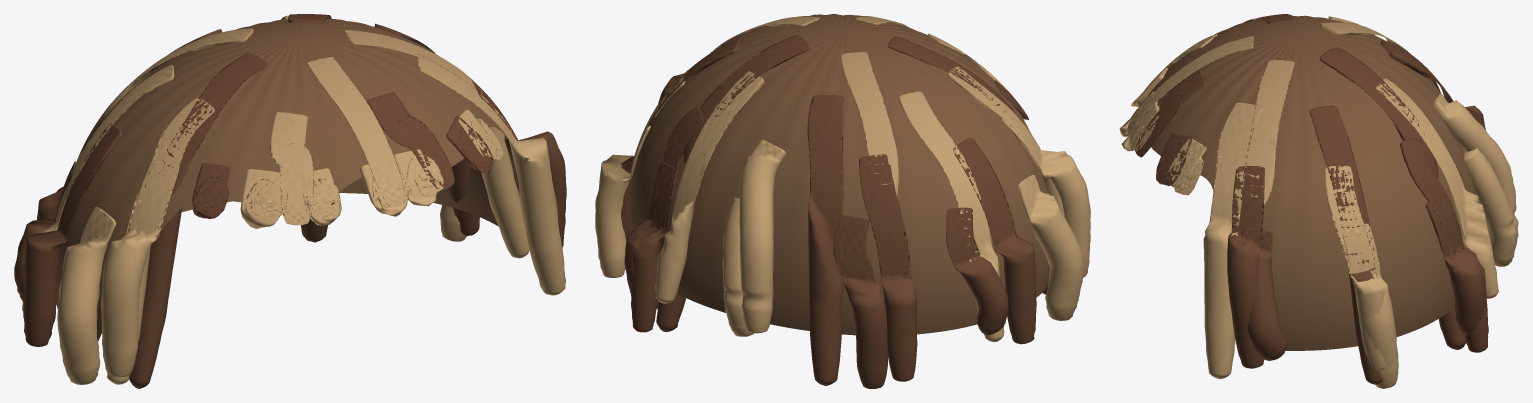
The model's file is Highlights-407ad8f10943251-hair.glb.
The picture shows the model from 3 angles, left to right: view 1: azimuth 30°, elevation 25°; view 2: azimuth 150°, elevation 25°; view 3: azimuth 270°, elevation 25°; orthographic projection. The views are drawn at different scales.
Visible parts, largest first — view 1: 226 hair / Hair / loc main251.001, 226 hair / Hair / recessed roots251.001, 226 hair / Hair / loc accent251.001; view 2: 226 hair / Hair / recessed roots251.001, 226 hair / Hair / loc main251.001, 226 hair / Hair / loc accent251.001; view 3: 226 hair / Hair / recessed roots251.001, 226 hair / Hair / loc accent251.001, 226 hair / Hair / loc main251.001.
Boxes of the visible parts, x1=… form: 226 hair / Hair / loc main251.001: x1=14, y1=14, x2=566, y2=388; 226 hair / Hair / recessed roots251.001: x1=56, y1=19, x2=519, y2=341; 226 hair / Hair / loc accent251.001: x1=57, y1=15, x2=565, y2=384; 226 hair / Hair / recessed roots251.001: x1=629, y1=14, x2=1049, y2=335; 226 hair / Hair / loc main251.001: x1=621, y1=15, x2=1048, y2=388; 226 hair / Hair / loc accent251.001: x1=595, y1=16, x2=1090, y2=336; 226 hair / Hair / recessed roots251.001: x1=1148, y1=15, x2=1476, y2=350; 226 hair / Hair / loc accent251.001: x1=1119, y1=18, x2=1518, y2=388; 226 hair / Hair / loc main251.001: x1=1128, y1=14, x2=1488, y2=384.
Bounding box in the file's own units: 1.13 × 0.6399 × 0.8763.
